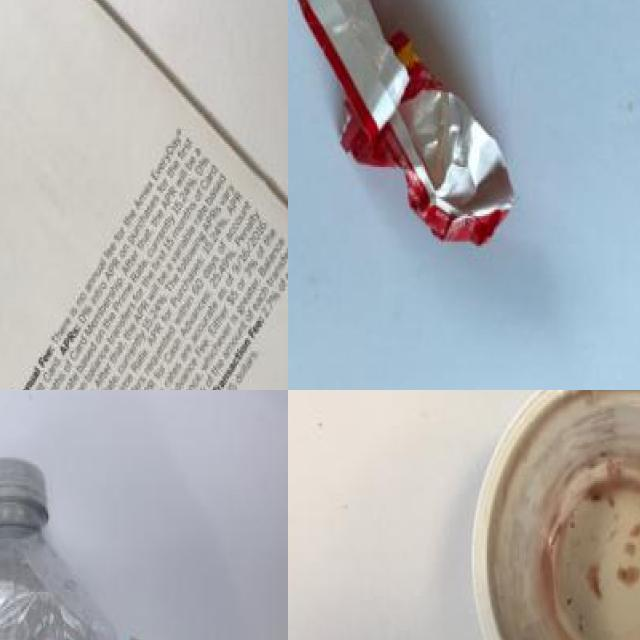paper: (0, 0, 288, 390)
plastic: (0, 447, 142, 640)
trash: (288, 0, 551, 263), (457, 390, 640, 640)
